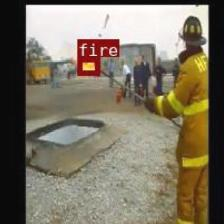fire: (77, 57, 98, 74)
